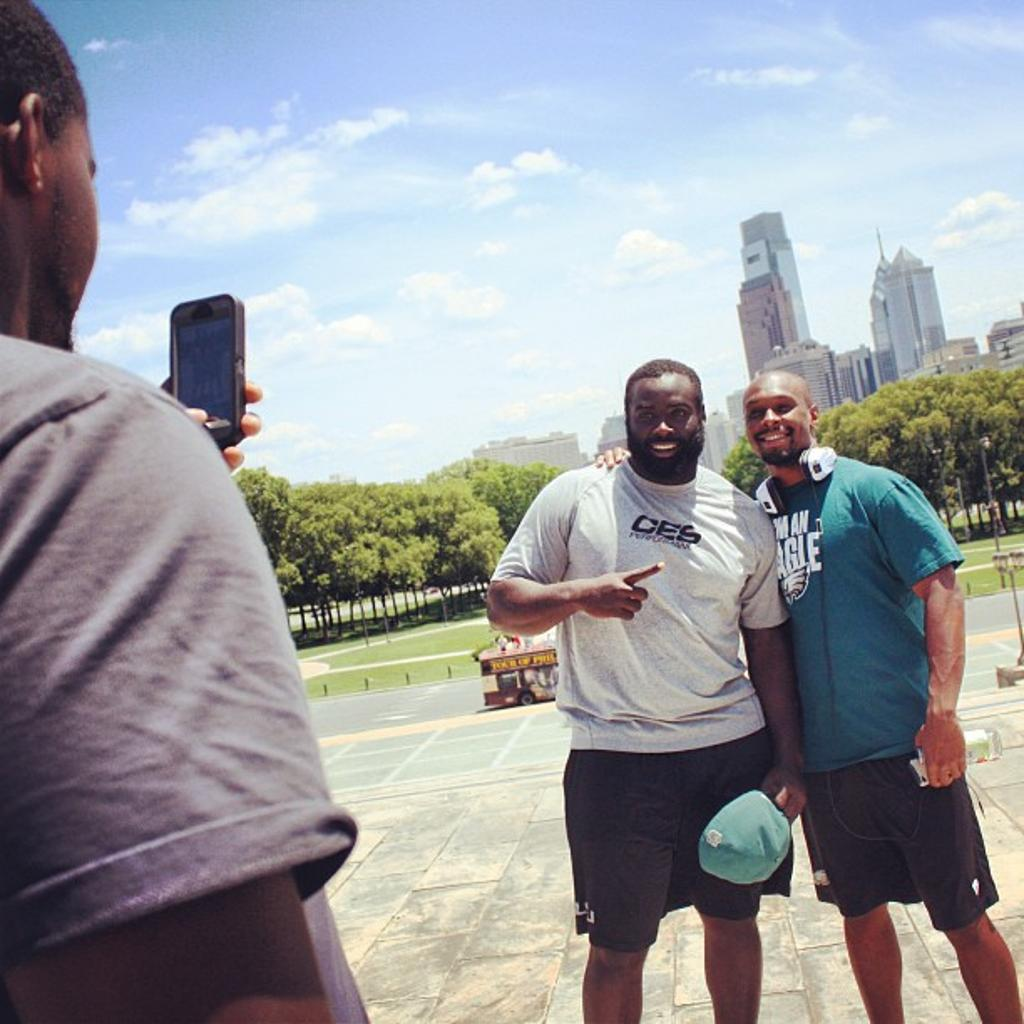face: (626, 366, 704, 470), (750, 378, 814, 466)
